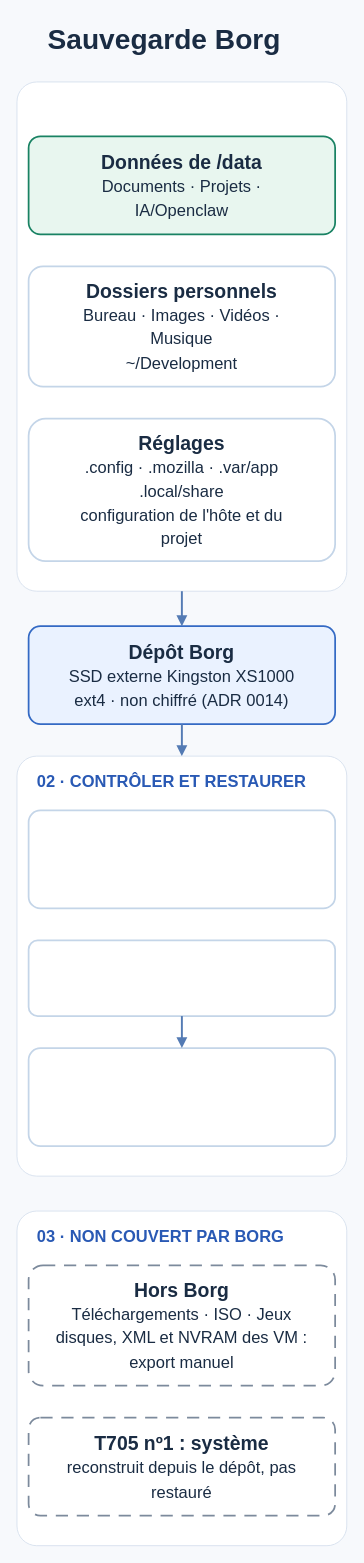
The diagram is 364 pixels wide and 1563 high, and some of its shapes have lost their labels. The box of each missing label's shape, as (x1, y1, x2, y2) in pixels:
01 · SOURCES SAUVEGARDÉES: (16, 81, 347, 591)
Contrôles de validation borg check --verify-data restauration canari: (27, 809, 336, 909)
Inspection, puis copie manuelle jamais d'écrasement en place: (27, 1047, 336, 1146)
Restauration en staging ~/Restores/fedora-gnome-custom: (27, 939, 336, 1016)
